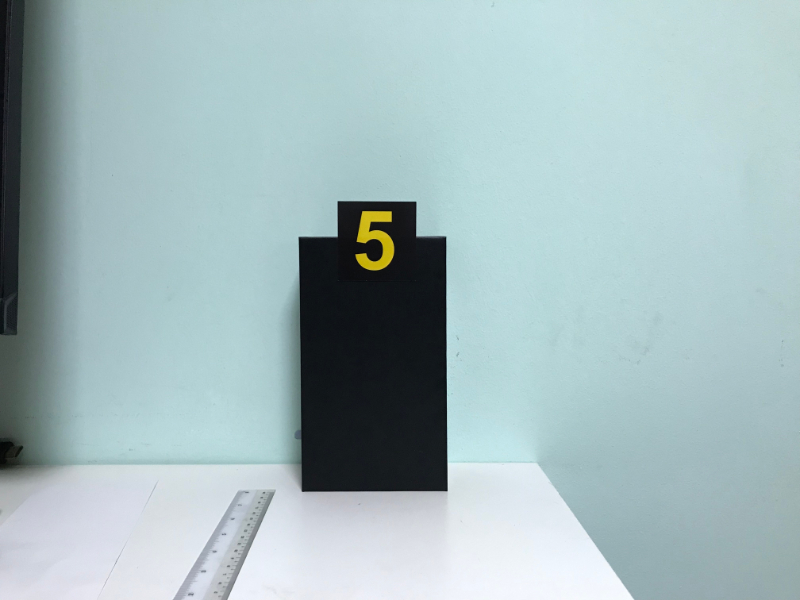Five-10: (338, 201, 415, 281)
